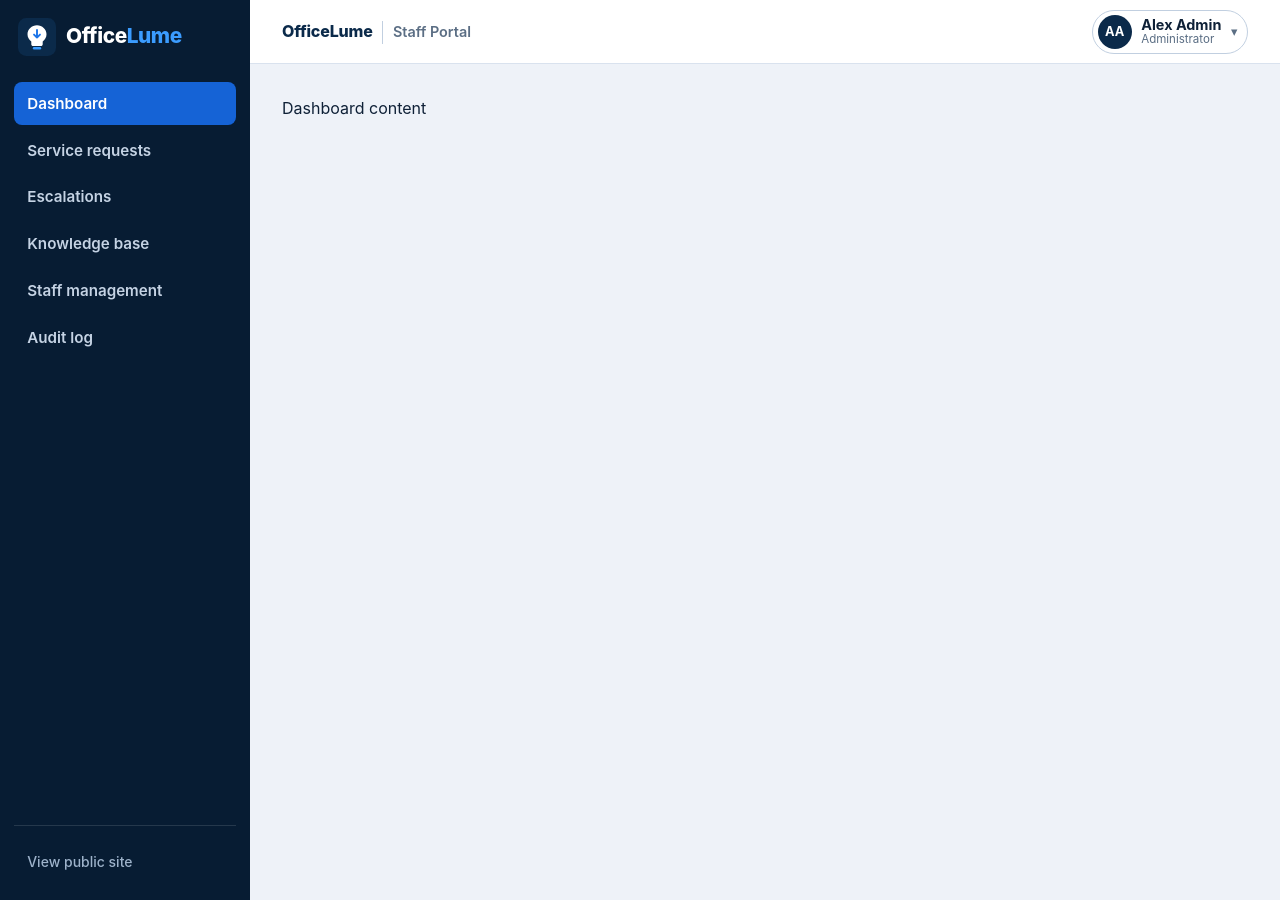
Test: staff portal header and account menu › opens a menu with name, role, email and Sign Out
This screenshot has width=1280, height=900.
Click the button "Alex Admin": point(1170, 32) 1092,10 -> 1248,54
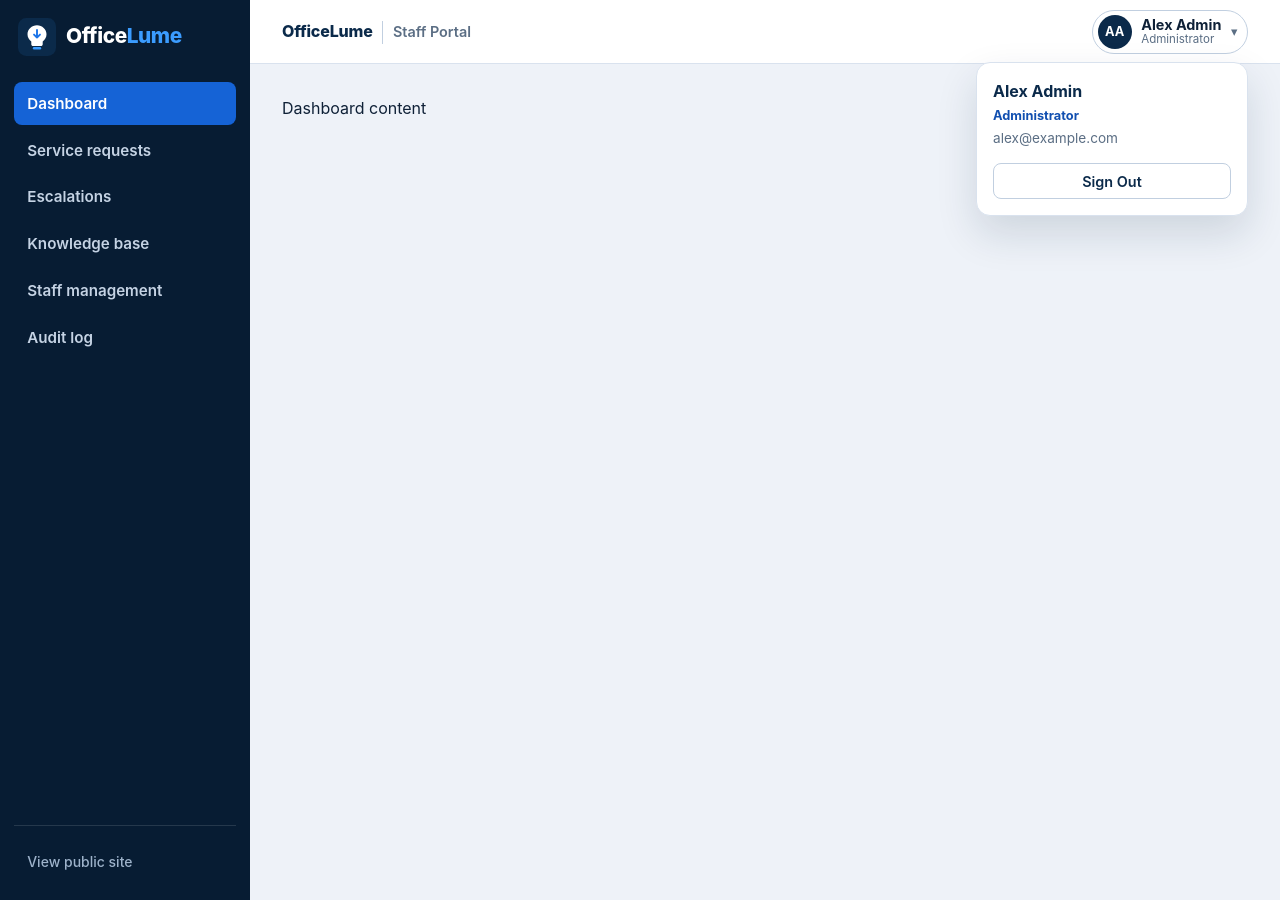
expect the 2nd text "Alex Admin" is shown: met, box 993,81 -> 1082,101
expect the 2nd text "Administrator" is shown: met, box 993,108 -> 1079,123
expect the text "alex@example.com" is shown: met, box 993,130 -> 1118,146
